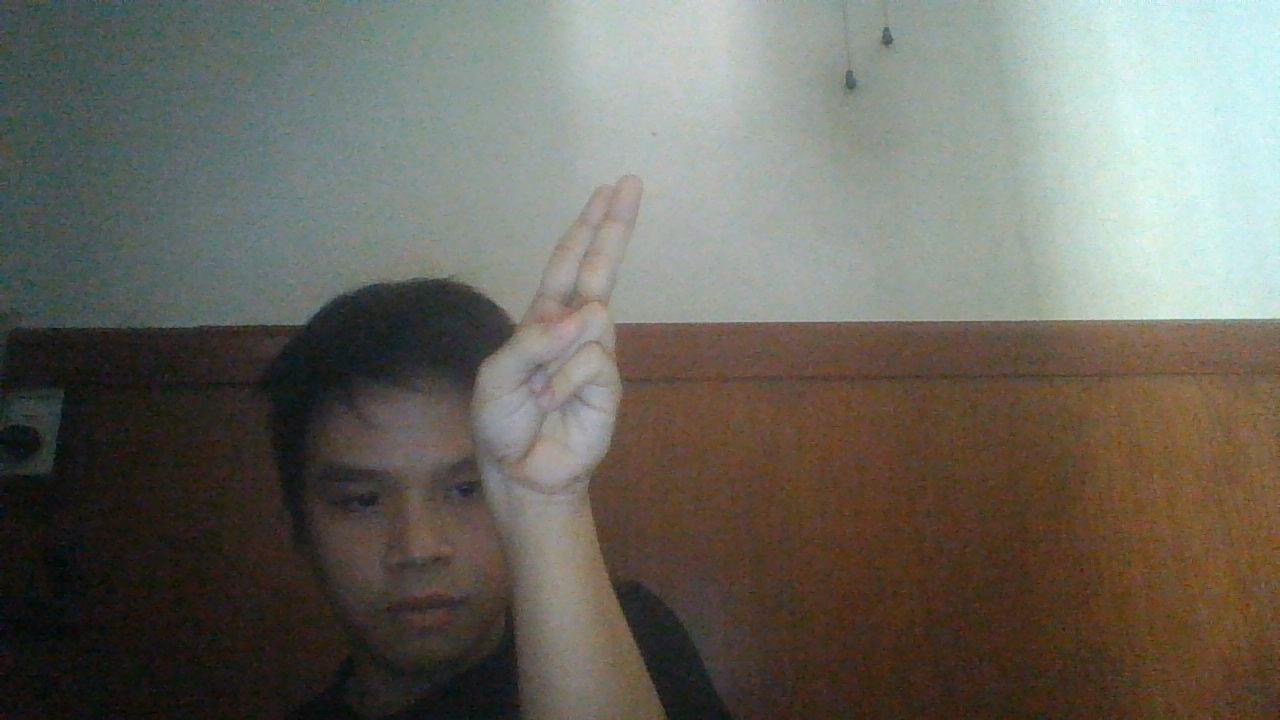write3: (461, 177, 643, 489)
